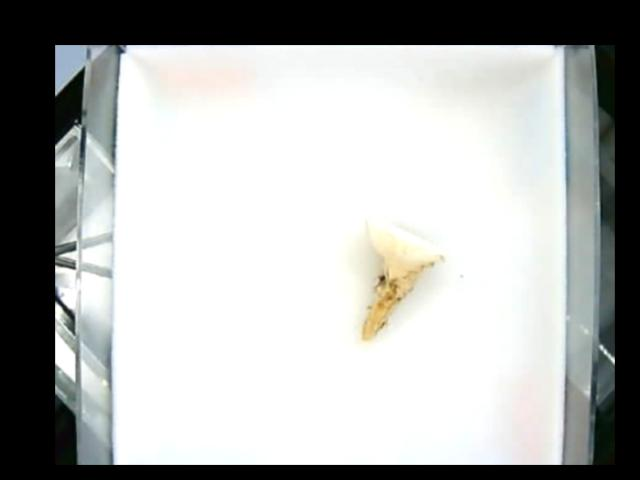Mooli: (361, 215, 445, 341)
